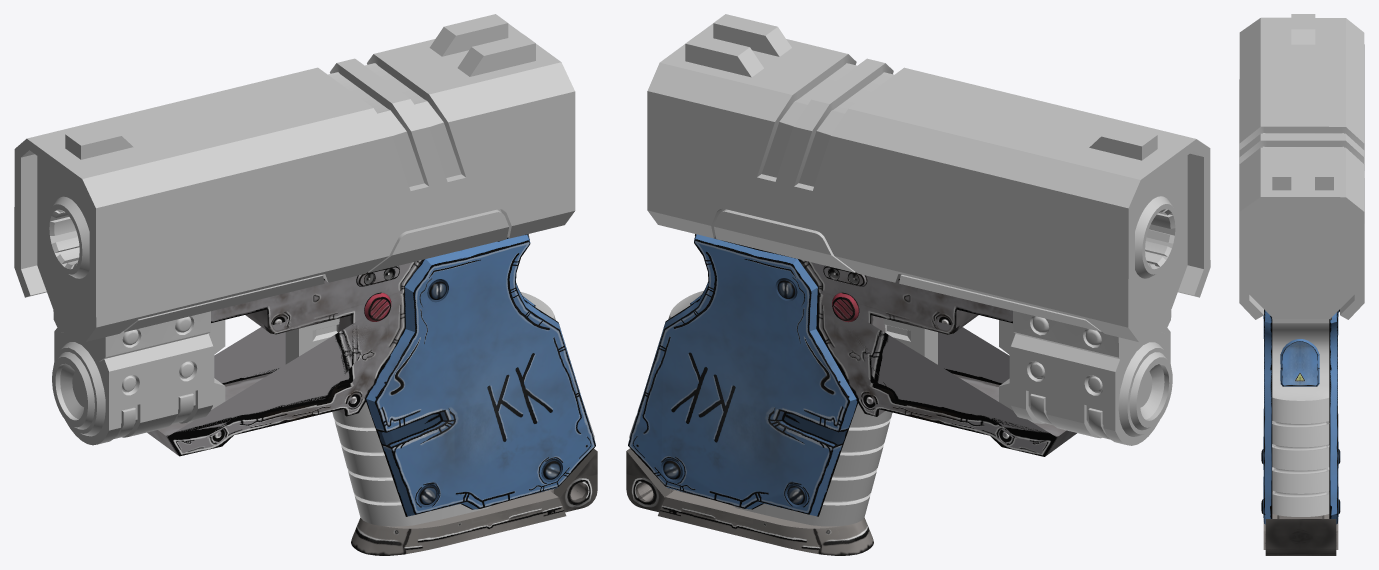
File: GunShooter.fbx
3 views of the same model, side by side, from view 1: azimuth 30°, elevation 25°; view 2: azimuth 150°, elevation 25°; view 3: azimuth 270°, elevation 25° (orthographic). The views are drawn at different scales.
Parts seen in each view (by area): view 1: Cube.005, Plane, Plane.002, Cylinder, Cube.001, Cube.004, Cylinder.001, Cylinder.002, Cube.002, Cube.003; view 2: Cube.005, Plane, Plane.002, Cylinder, Cube.001, Cube.004, Cylinder.001, Cylinder.002, Cube.002, Cube.003; view 3: Cube.005, Cube.004, Cylinder.001, Plane, Cube.001, Plane.001.
Boxes of the visible parts, left/top/right/bottom form: Cube.005: left=14, top=14, right=575, bottom=341; Plane: left=365, top=234, right=595, bottom=516; Plane.002: left=147, top=234, right=527, bottom=456; Cylinder: left=52, top=328, right=213, bottom=445; Cube.001: left=351, top=449, right=597, bottom=555; Cube.004: left=37, top=156, right=501, bottom=329; Cylinder.001: left=332, top=234, right=594, bottom=526; Cylinder.002: left=53, top=309, right=210, bottom=361; Cube.002: left=285, top=318, right=339, bottom=364; Cube.003: left=208, top=320, right=225, bottom=409; Cube.005: left=647, top=14, right=1210, bottom=341; Plane: left=628, top=234, right=857, bottom=516; Plane.002: left=695, top=234, right=1076, bottom=456; Cylinder: left=1010, top=328, right=1172, bottom=445; Cube.001: left=626, top=448, right=873, bottom=555; Cube.004: left=721, top=155, right=1187, bottom=329; Cylinder.001: left=629, top=236, right=892, bottom=526; Cylinder.002: left=1013, top=309, right=1171, bottom=361; Cube.002: left=884, top=318, right=937, bottom=364; Cube.003: left=999, top=320, right=1015, bottom=410; Cube.005: left=1239, top=14, right=1364, bottom=319; Cube.004: left=1249, top=204, right=1354, bottom=318; Cylinder.001: left=1272, top=318, right=1329, bottom=516; Plane: left=1261, top=309, right=1340, bottom=524; Cube.001: left=1263, top=490, right=1338, bottom=555; Plane.001: left=1280, top=339, right=1319, bottom=386.
Bounding box in the file's own units: 196 × 170 × 52.53.
